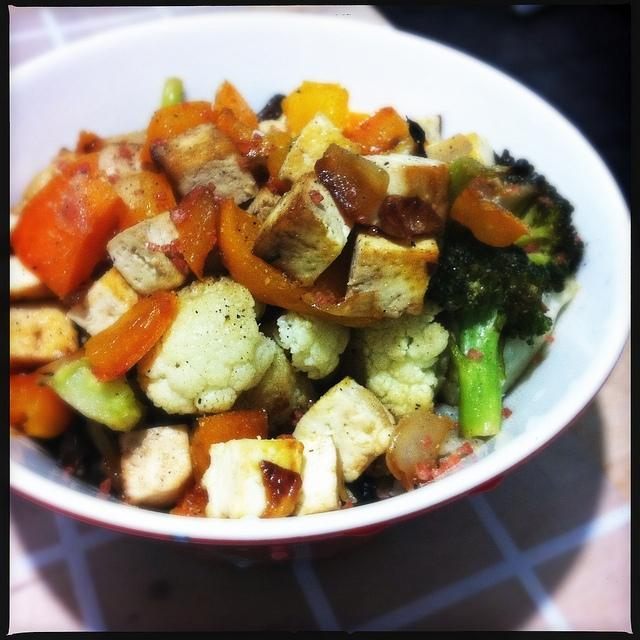broccoli: (424, 218, 553, 438), (36, 359, 142, 434), (448, 156, 517, 214), (514, 175, 574, 227), (162, 78, 184, 109)
carrot: (10, 153, 129, 300), (84, 289, 178, 381), (190, 408, 268, 484), (138, 100, 220, 166), (10, 372, 74, 439)
cauliflower: (137, 276, 276, 416), (352, 302, 450, 420), (232, 323, 318, 437), (272, 310, 352, 380), (435, 402, 489, 465), (440, 361, 460, 406)
